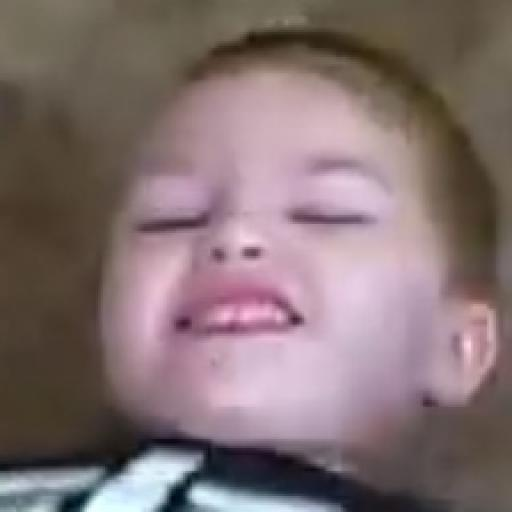Autism: (97, 79, 512, 507)
